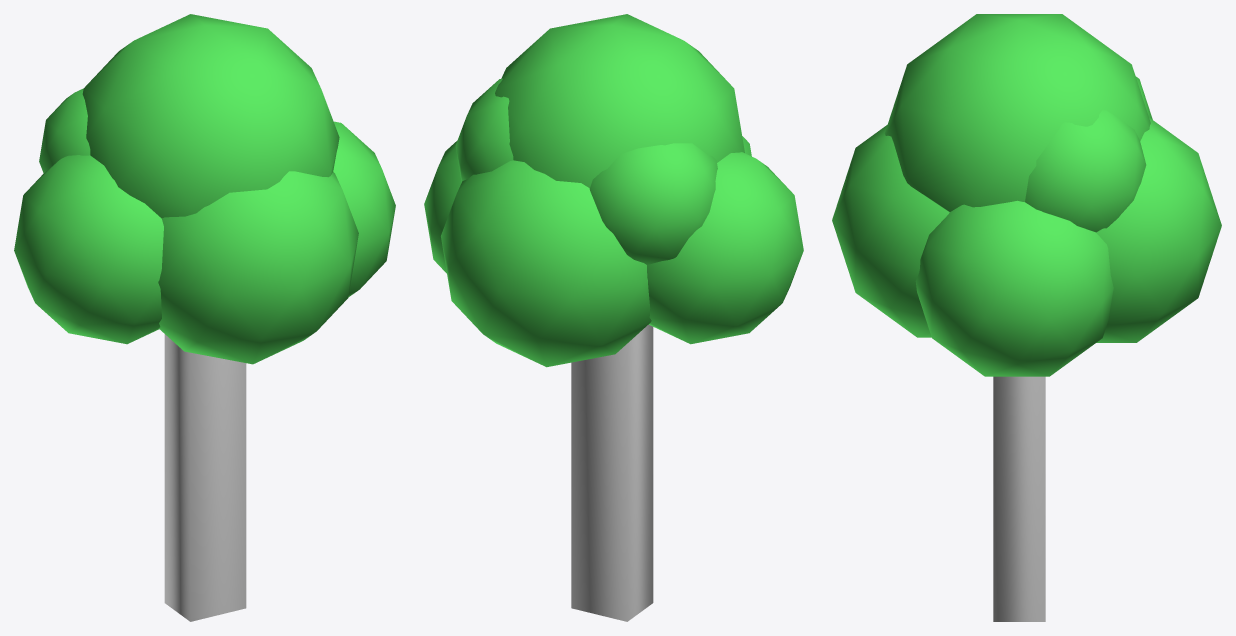
Rendered from treeLowpoly.fbx.
3 views of the same model, side by side, from view 1: azimuth 30°, elevation 25°; view 2: azimuth 150°, elevation 25°; view 3: azimuth 270°, elevation 25° (orthographic).
Parts seen in each view (by area): view 1: Icosphere.008, Cube; view 2: Icosphere.008, Cube; view 3: Icosphere.008, Cube.
Part boxes in pixels (x1,y1,x2,y2): Icosphere.008: (14,14,395,364); Cube: (164,334,246,621); Icosphere.008: (424,14,803,367); Cube: (571,324,653,621); Icosphere.008: (832,14,1221,376); Cube: (993,376,1045,621).
Size of the model in its own units: 591 by 940 by 565.
